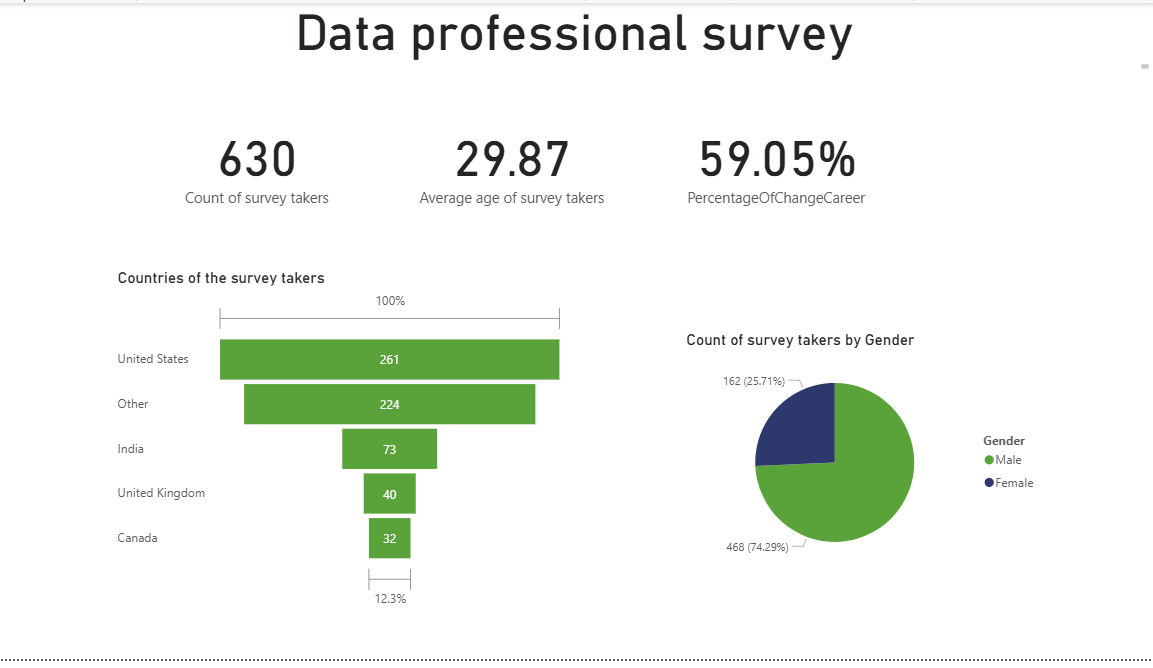

Layout of this report page (visuals, bound fields, positions):
{"tool":"powerbi","page":{"name":"Page 1","canvas":[1280,720],"ordinal":0},"visuals":[{"type":"textbox","title":"Data professional survey ","box":[9.6,0,1270.7,76.8],"z":0},{"type":"card","fields":{"Values":["CountNonNull(Data Professional Survey.Unique ID)"]},"box":[156.4,100.2,279.9,149.6],"z":1000},{"type":"card","fields":{"Values":["Avg(Data Professional Survey.Q10 - Current Age)"]},"box":[436.4,100.2,279.9,149.6],"z":2000},{"type":"pieChart","fields":{"Category":["Data Professional Survey.Gender"],"Y":["CountNonNull(Data Professional Survey.Unique ID)"]},"box":[763.6,360,401.8,270.9],"z":3000},{"type":"card","fields":{"Values":["Data Professional Survey.PercentageOfChangeCareer"]},"box":[727.3,100.2,278.6,149.6],"z":4000},{"type":"funnel","title":"Countries of the survey takers ","fields":{"Category":["Data Professional Survey.Which Country do you live in"],"Y":["CountNonNull(Data Professional Survey.Unique ID)"]},"box":[139.1,291.3,500,378.3],"z":5000}]}

Visuals, with their boxes in screenshot pixels (x1, y1, x2, y2), scaled from the page's 1280x720 canvas onto the 1153x668 screenshot:
"Data professional survey " textbox: 9,0,1152,71
card - CountNonNull(Data Professional Survey.Unique ID): 141,93,393,232
card - Avg(Data Professional Survey.Q10 - Current Age): 393,93,645,232
pieChart - Data Professional Survey.Gender x CountNonNull(Data Professional Survey.Unique ID): 688,334,1050,585
card - Data Professional Survey.PercentageOfChangeCareer: 655,93,906,232
"Countries of the survey takers " funnel: 125,270,576,621
